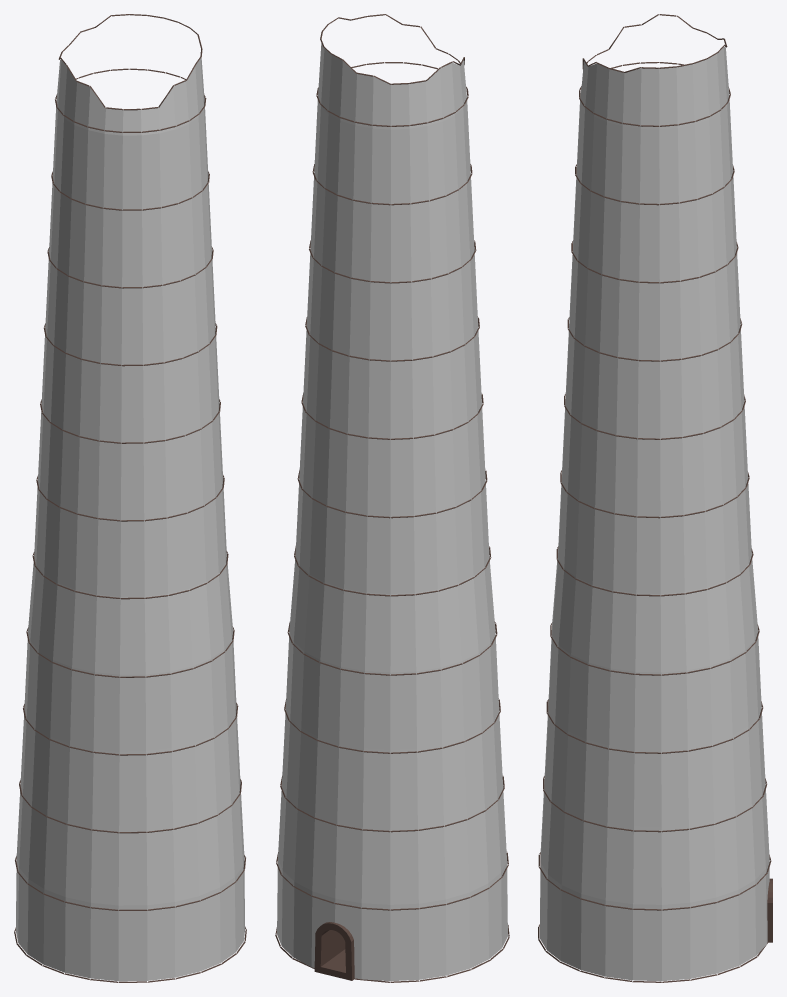
Rendered from pijp_kapot.glb.
3 renders of one model, left to right at view 1: azimuth 30°, elevation 25°; view 2: azimuth 150°, elevation 25°; view 3: azimuth 270°, elevation 25°, orthographic.
Visible parts, largest first — view 1: pijp.001, randen.001; view 2: pijp.001, randen.001, inkeping.001; view 3: pijp.001, randen.001.
Part boxes in pixels (x1,y1,x2,y2): pijp.001: (15, 57, 245, 981); randen.001: (14, 14, 246, 982); pijp.001: (277, 43, 507, 981); randen.001: (275, 14, 509, 982); inkeping.001: (314, 922, 355, 980); pijp.001: (539, 46, 769, 981); randen.001: (538, 14, 771, 982).
Bounding box in the file's own units: 3.24 × 13.65 × 3.24.
